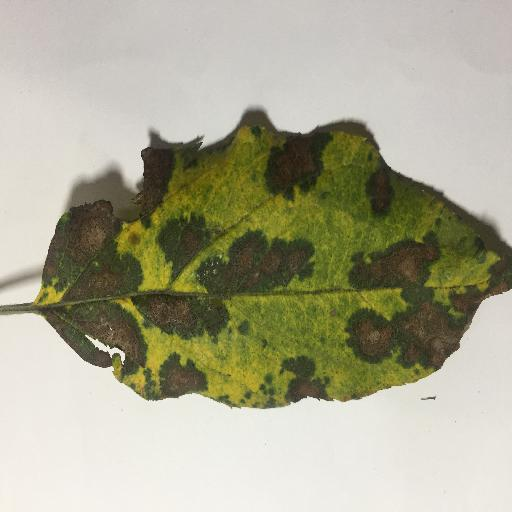Brown_Spot: (18, 203, 145, 392), (342, 295, 463, 370), (205, 228, 302, 293), (134, 288, 223, 334), (337, 242, 431, 284), (133, 148, 173, 228), (270, 136, 323, 194), (158, 350, 209, 396), (167, 220, 212, 268), (287, 362, 327, 399), (373, 167, 398, 217), (445, 289, 476, 313)
